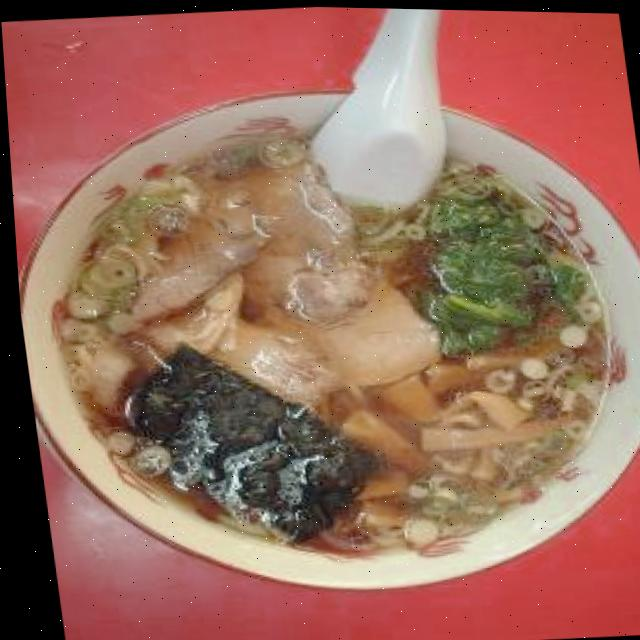面条主食: (3, 56, 640, 623)
